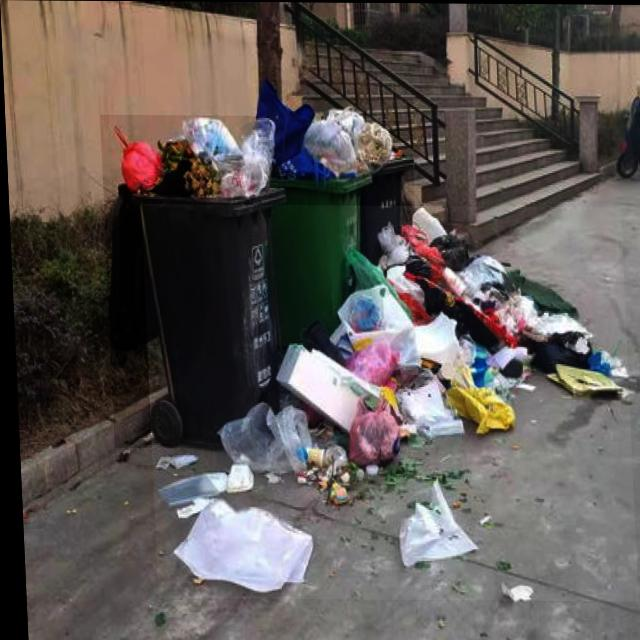garbage: (139, 204, 633, 601)
overflow: (99, 115, 291, 449), (255, 80, 374, 344), (352, 120, 415, 263)
